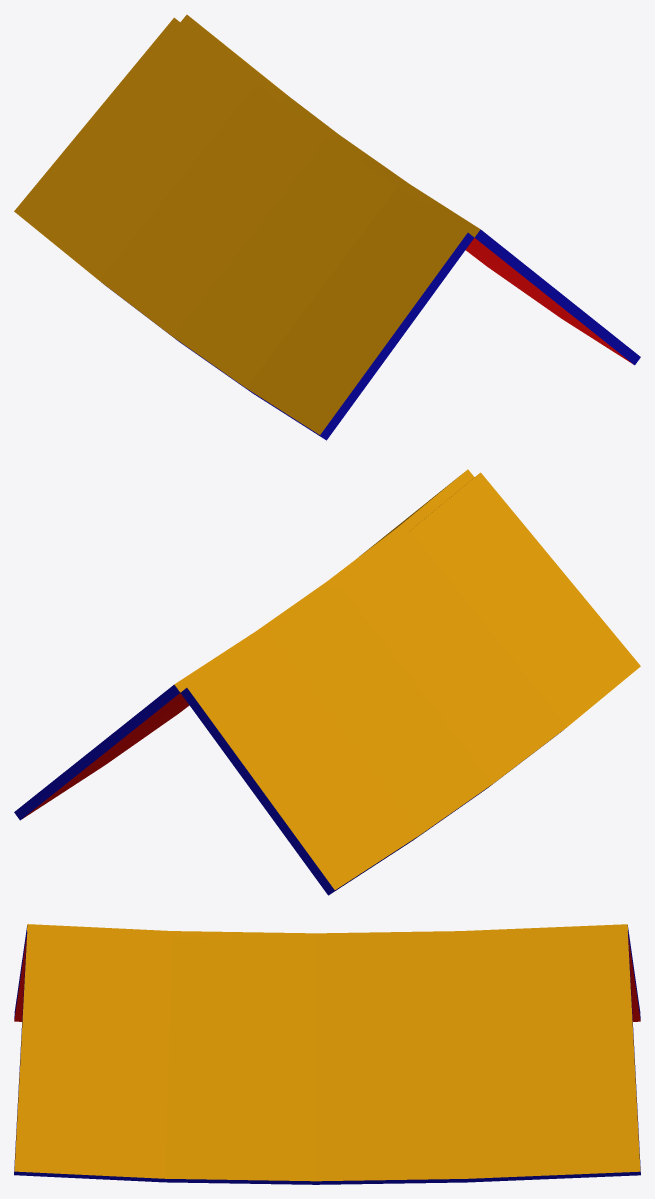
File: BlackSmithRoof.fbx
3 views of the same model, one above another, from view 1: azimuth 30°, elevation 25°; view 2: azimuth 150°, elevation 25°; view 3: azimuth 270°, elevation 25° (orthographic). The views are drawn at different scales.
Parts seen in each view (by area): view 1: Ceiling01; view 2: Ceiling01; view 3: Ceiling01.
Part boxes in pixels (x1,y1,x2,y2): Ceiling01: (14, 14, 640, 440); Ceiling01: (14, 469, 640, 895); Ceiling01: (14, 924, 640, 1184).
Bounding box in the file's own units: 750 × 395 × 1241.
